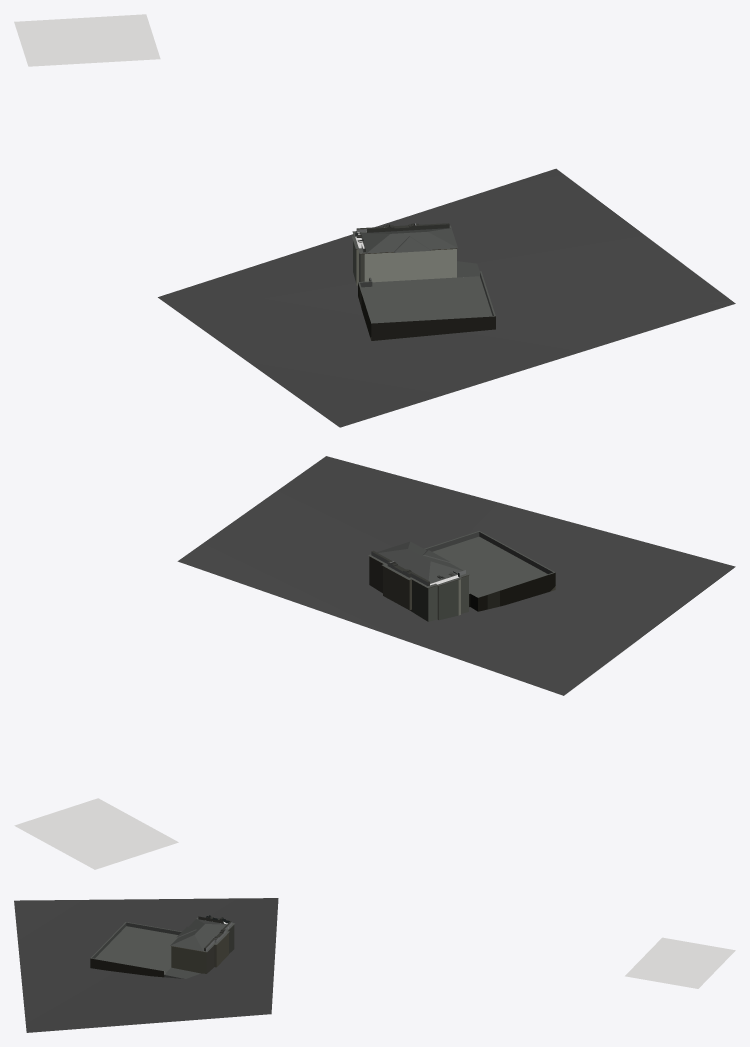
Rendered from the-chattanooga-carnegie-law-library.glb.
3 views of the same model, one above another, from view 1: azimuth 30°, elevation 25°; view 2: azimuth 150°, elevation 25°; view 3: azimuth 270°, elevation 25° (orthographic). The views are drawn at different scales.
Parts seen in each view (by area): view 1: LOD0; view 2: LOD0; view 3: LOD0.
Boxes of the visible parts, x1,y1,x2,y2 form: LOD0: (14,14,735,427); LOD0: (14,456,735,869); LOD0: (14,898,735,1032).
Size of what is drawn, in the model's own units: 131 by 17.12 by 270.
Materials: 2 (2 with a texture image).
